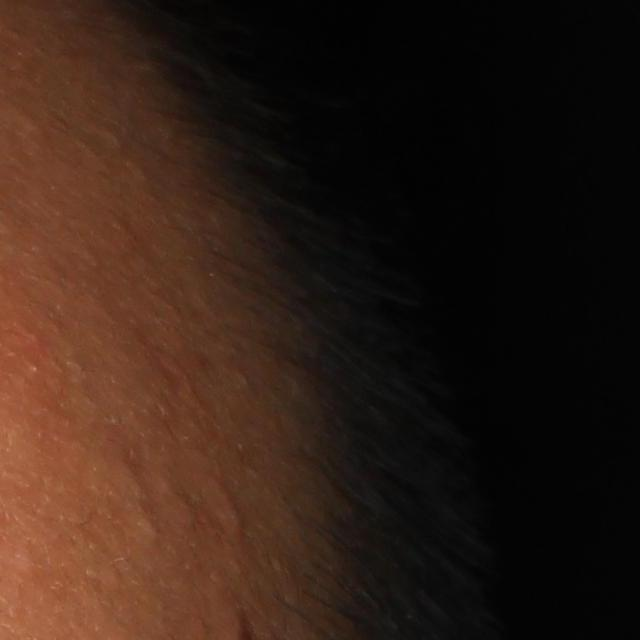comedo: (130, 511, 159, 543)
